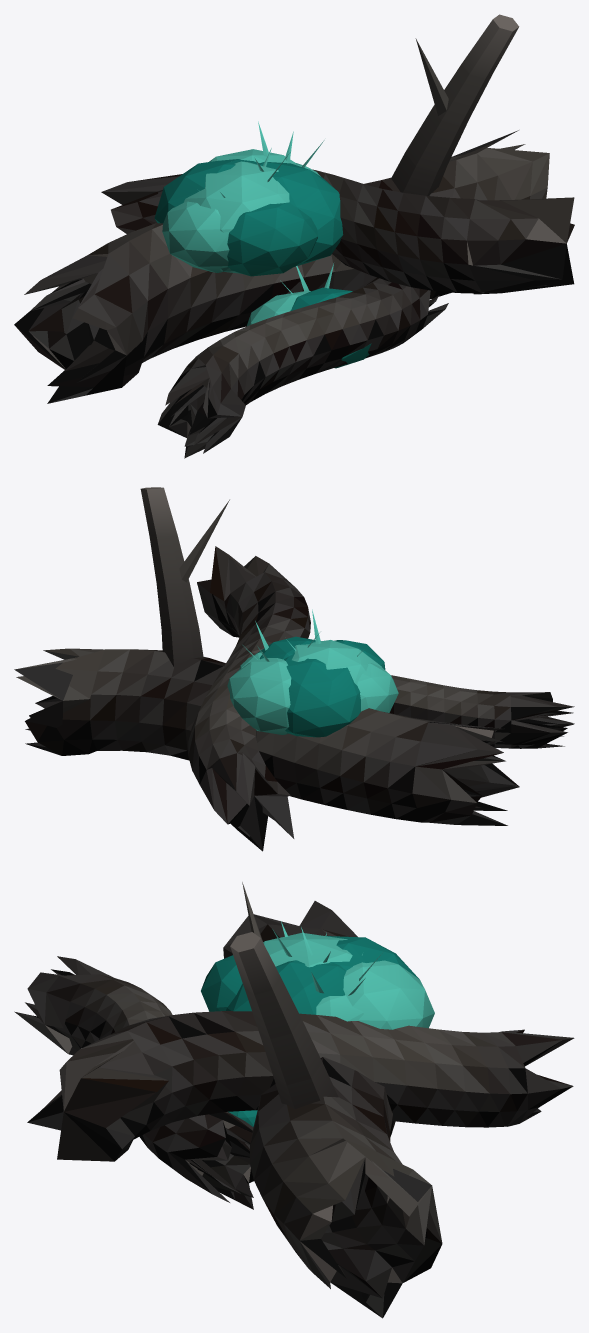
File: pohon_tumbang_logjam_swamp_948032.glb
The picture shows the model from 3 angles, top to bottom: view 1: azimuth 30°, elevation 25°; view 2: azimuth 150°, elevation 25°; view 3: azimuth 270°, elevation 25°; orthographic projection. The views are drawn at different scales.
Parts seen in each view (by area): view 1: Tumpukan_Kayu_Hanyut; view 2: Tumpukan_Kayu_Hanyut; view 3: Tumpukan_Kayu_Hanyut.
Part boxes in pixels (left/top/right/bottom): Tumpukan_Kayu_Hanyut: left=14, top=14, right=574, bottom=458; Tumpukan_Kayu_Hanyut: left=14, top=487, right=574, bottom=851; Tumpukan_Kayu_Hanyut: left=14, top=882, right=574, bottom=1318.
Bounding box in the file's own units: 4.6 × 2.34 × 3.55.
